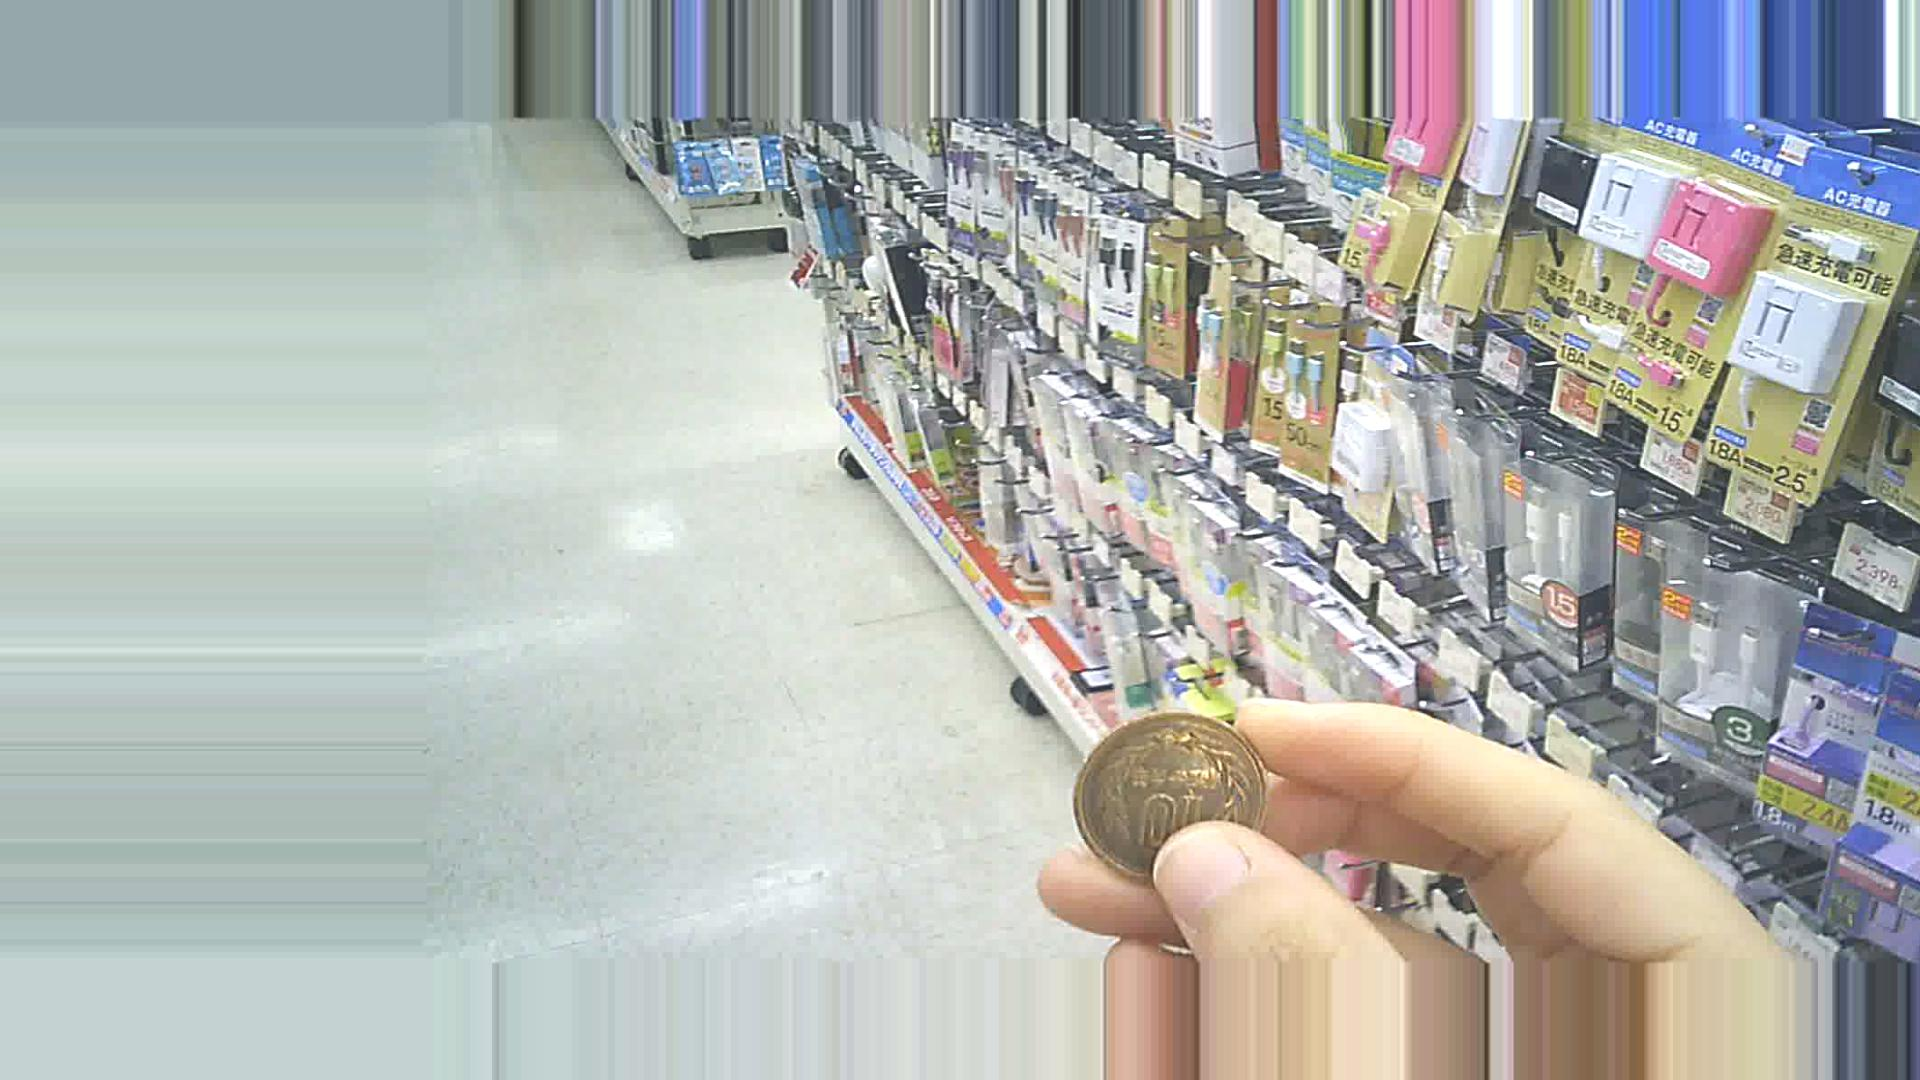10 Yen: (1076, 702, 1273, 866)
